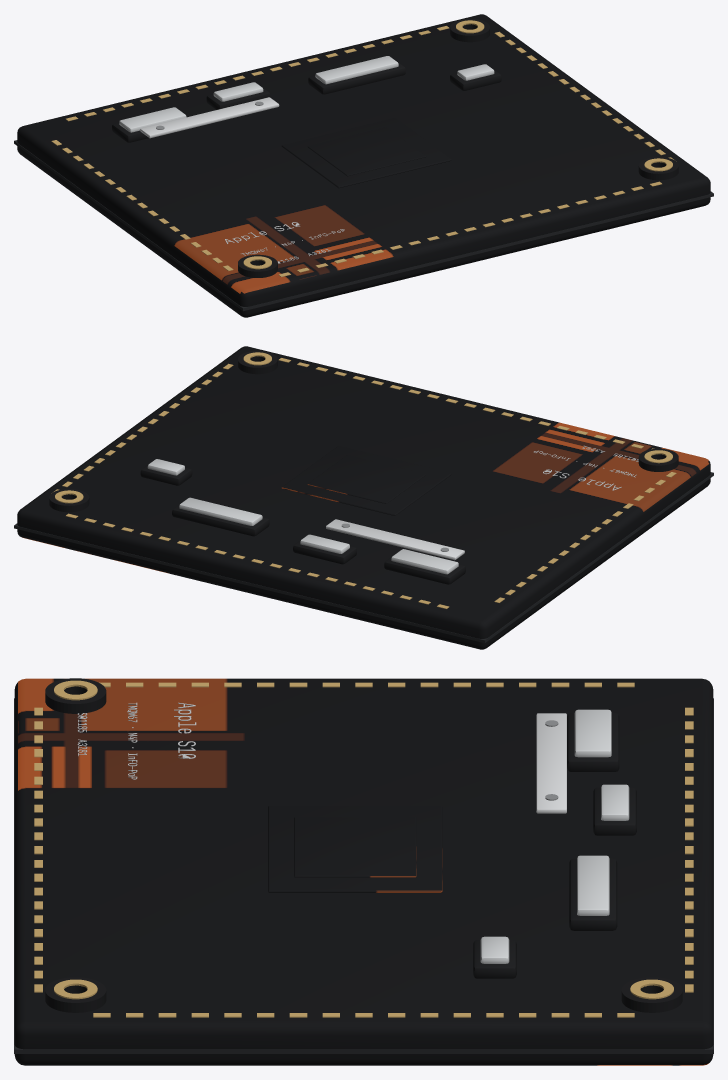
The model's file is part_sip.glb.
3 views of the same model, one above another, from view 1: azimuth 30°, elevation 25°; view 2: azimuth 150°, elevation 25°; view 3: azimuth 270°, elevation 25° (orthographic). The views are drawn at different scales.
Visible parts, largest first — view 1: part_sip; view 2: part_sip; view 3: part_sip.
Part boxes in pixels (<box>): part_sip: <box>14,14,713,317</box>; part_sip: <box>14,346,713,649</box>; part_sip: <box>14,678,713,1065</box>.
Size of the model in its own units: 0.0381 by 0.00328 by 0.0321.
